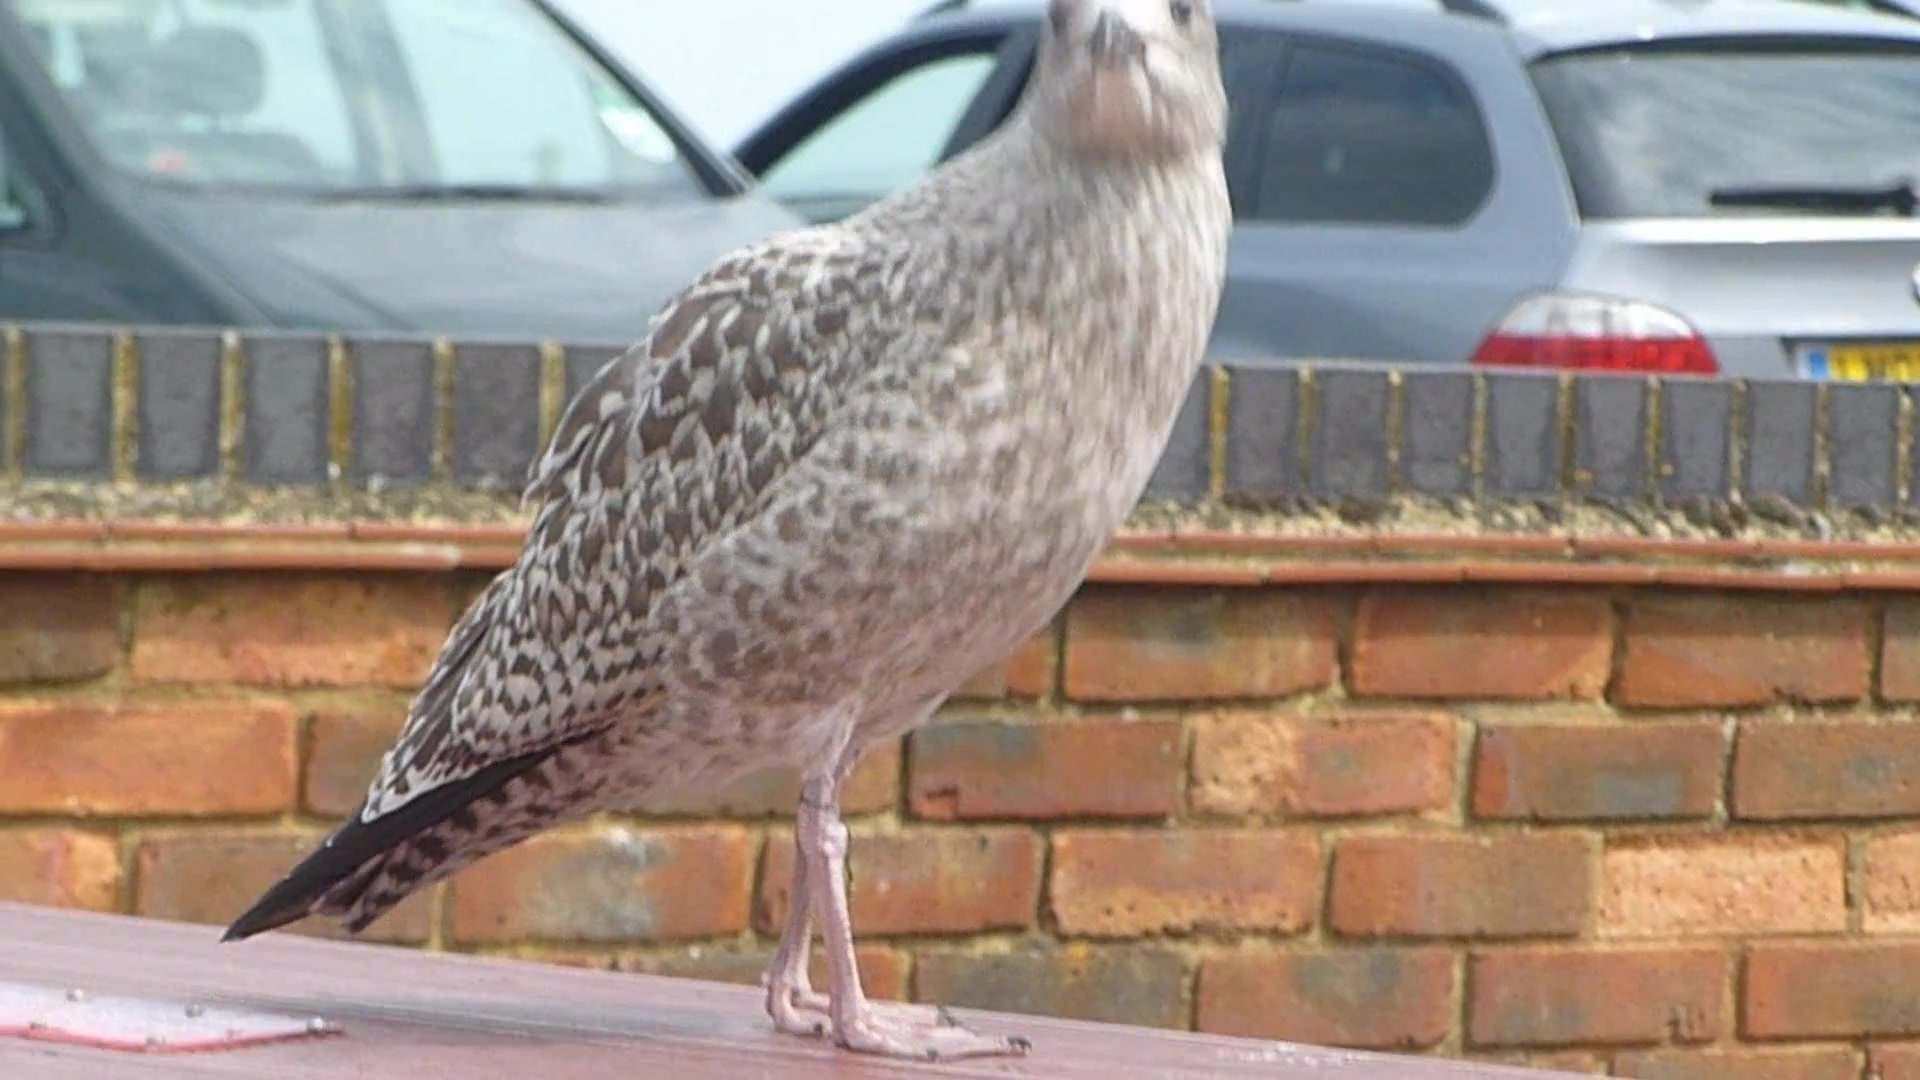bird: (219, 1, 1236, 1068)
